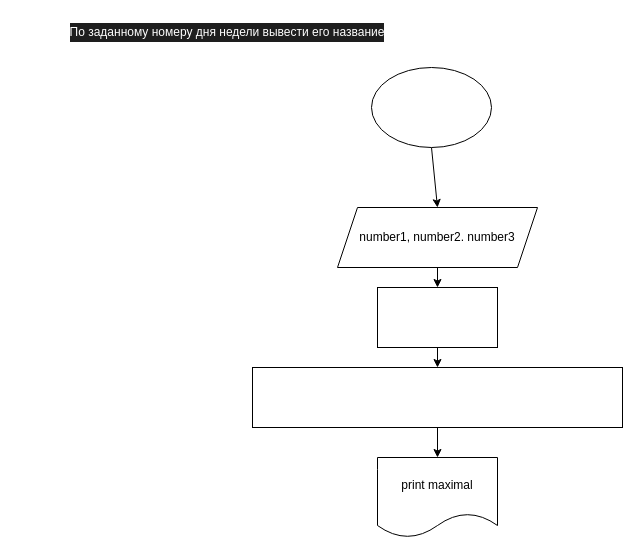
Some shapes in this 640 by 555 pixel diagram are drawn without their labels. Each missing label, with the box of its shape:
int maximal = Math . Max ( Math . Max ( number1 , number2 ), number3 ): (252, 366, 622, 428)
maximal = 0: (376, 286, 498, 348)
